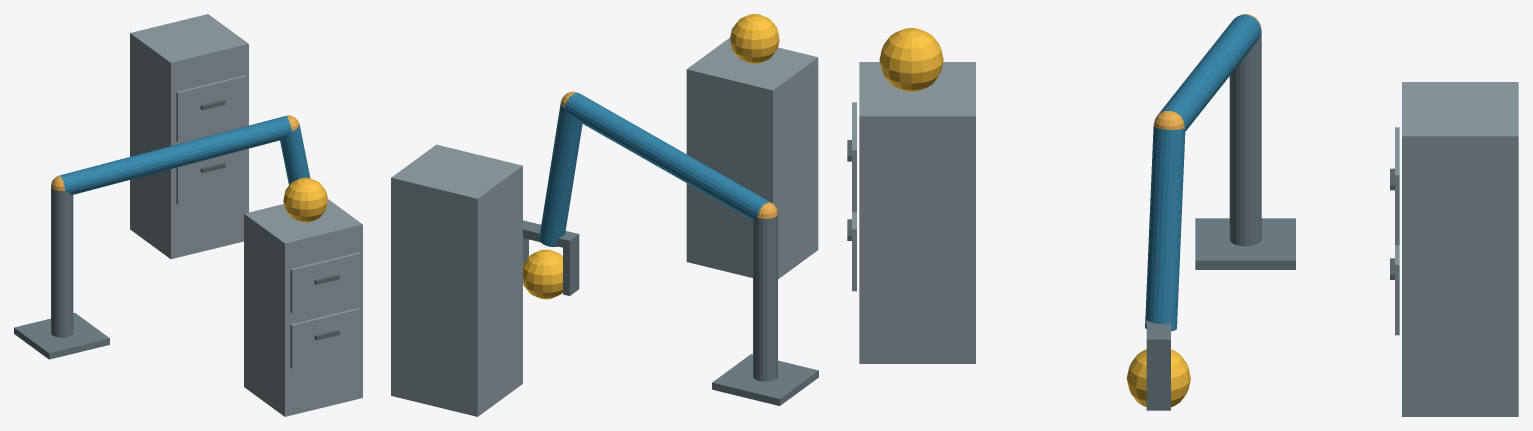
The picture shows the model from 3 angles, left to right: view 1: azimuth 30°, elevation 25°; view 2: azimuth 150°, elevation 25°; view 3: azimuth 270°, elevation 25°; orthographic projection. The views are drawn at different scales.
Parts seen in each view (by area): view 1: cabinet_2 body, cabinet_1 body, moving link 1, cabinet_2 drawer front.001, fixed post, cabinet_1 drawer front.001, cabinet_1 drawer front, cabinet_2 drawer front, pedestal, released ball_1, moving link 2; view 2: cabinet_2 body, cabinet_1 body, moving link 1, fixed post, moving link 2, pedestal, released ball_1, ball ball_2, gripper finger -1, gripper bridge; view 3: cabinet_2 body, cabinet_1 body, moving link 2, fixed post, pedestal, moving link 1, released ball_1, ball ball_2, gripper finger 1, gripper bridge.
Boxes of the visible parts, x1,y1,x2,y2 form: cabinet_2 body: [130, 14, 248, 259]; cabinet_1 body: [244, 199, 362, 416]; moving link 1: [60, 116, 291, 194]; cabinet_2 drawer front.001: [176, 75, 246, 141]; fixed post: [51, 187, 73, 337]; cabinet_1 drawer front.001: [290, 252, 360, 313]; cabinet_1 drawer front: [290, 308, 360, 368]; cabinet_2 drawer front: [176, 149, 246, 204]; pedestal: [14, 312, 109, 359]; released ball_1: [283, 177, 327, 222]; moving link 2: [280, 124, 310, 184]; cabinet_2 body: [391, 144, 522, 416]; cabinet_1 body: [686, 38, 818, 279]; moving link 1: [564, 92, 771, 220]; fixed post: [753, 213, 777, 381]; moving link 2: [539, 102, 582, 247]; pedestal: [712, 354, 818, 405]; released ball_1: [730, 14, 779, 63]; ball ball_2: [523, 249, 562, 299]; gripper finger -1: [563, 243, 579, 295]; gripper bridge: [523, 220, 579, 249]; cabinet_2 body: [1402, 82, 1518, 416]; cabinet_1 body: [859, 62, 975, 363]; moving link 2: [1145, 126, 1185, 331]; fixed post: [1229, 31, 1261, 246]; pedestal: [1195, 218, 1295, 269]; moving link 1: [1156, 14, 1261, 131]; released ball_1: [879, 28, 943, 91]; ball ball_2: [1126, 349, 1190, 407]; gripper finger 1: [1146, 350, 1170, 410]; gripper bridge: [1146, 320, 1170, 350].
Size of the model in its own units: 1.17 by 0.84 by 1.67.
